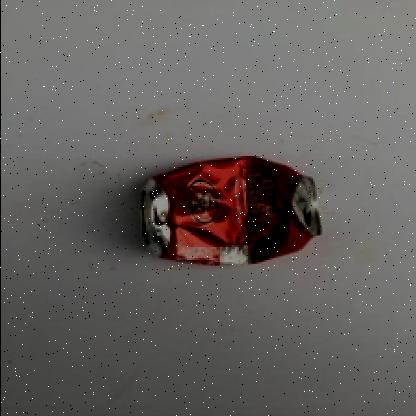Can: (140, 157, 322, 269)
